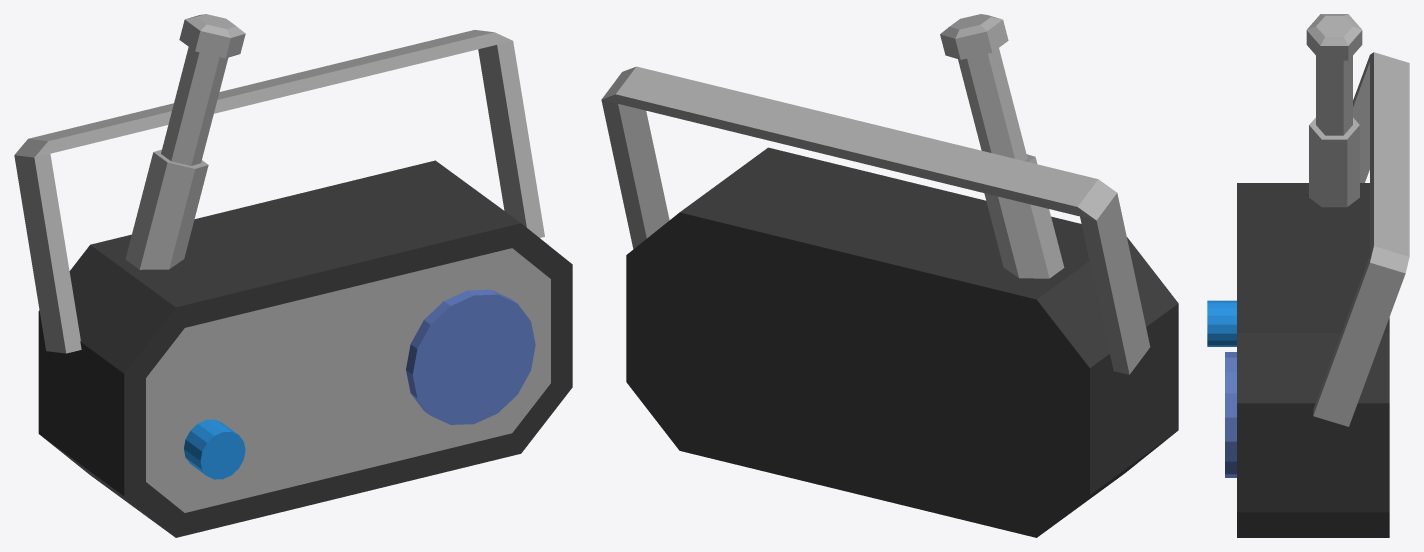
The model's file is Radio.glb.
The picture shows the model from 3 angles, left to right: view 1: azimuth 30°, elevation 25°; view 2: azimuth 150°, elevation 25°; view 3: azimuth 270°, elevation 25°; orthographic projection. The views are drawn at different scales.
Visible parts, largest first — view 1: Cube.004; view 2: Cube.004; view 3: Cube.004.
Boxes of the visible parts, <box> form: Cube.004: <box>14,14,572,537</box>; Cube.004: <box>601,14,1178,537</box>; Cube.004: <box>1207,14,1409,537</box>.
Size of the model in its own units: 0.7615 by 0.6955 by 0.3133.
